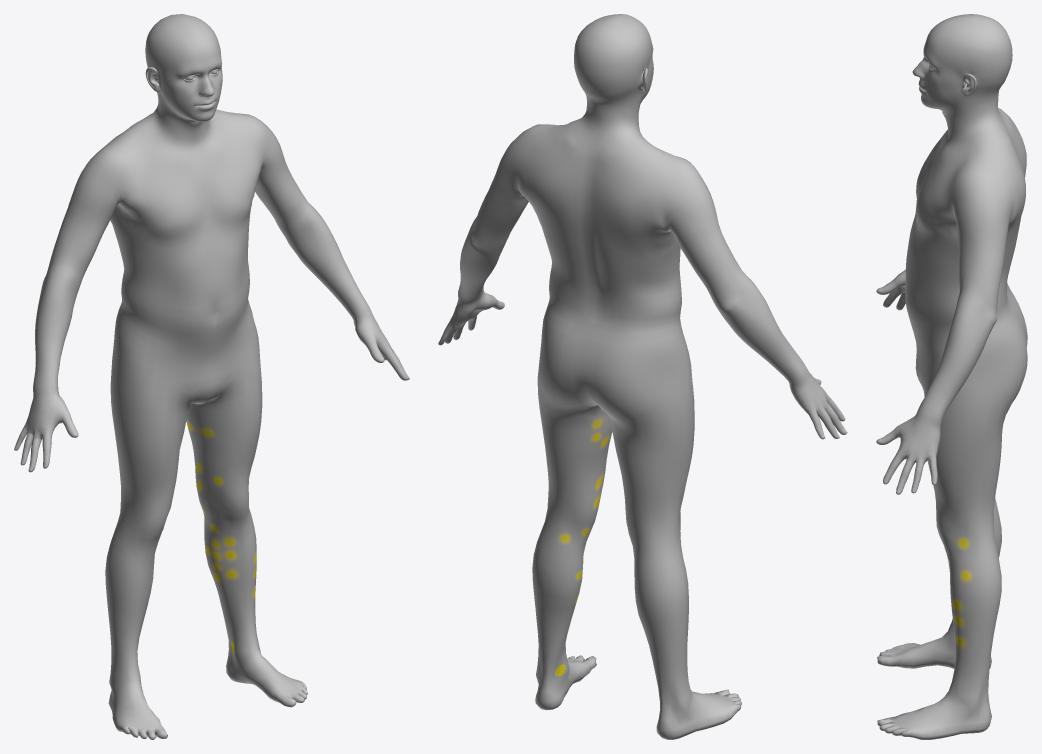
The model's file is 1135018-layingdown-yellow.gltf.
The picture shows the model from 3 angles, left to right: view 1: azimuth 30°, elevation 25°; view 2: azimuth 150°, elevation 25°; view 3: azimuth 270°, elevation 25°; orthographic projection. The views are drawn at different scales.
Visible parts, largest first — view 1: Male 68in 160lbs-A-pose; view 2: Male 68in 160lbs-A-pose; view 3: Male 68in 160lbs-A-pose.
Boxes of the visible parts, box(x1,y1,x2,y2) form: Male 68in 160lbs-A-pose: box(14, 14, 409, 739); Male 68in 160lbs-A-pose: box(438, 14, 847, 739); Male 68in 160lbs-A-pose: box(876, 14, 1027, 739).
Bounding box in the file's own units: 3.05 × 5.17 × 1.04.
Materials: 1 (1 with a texture image).
